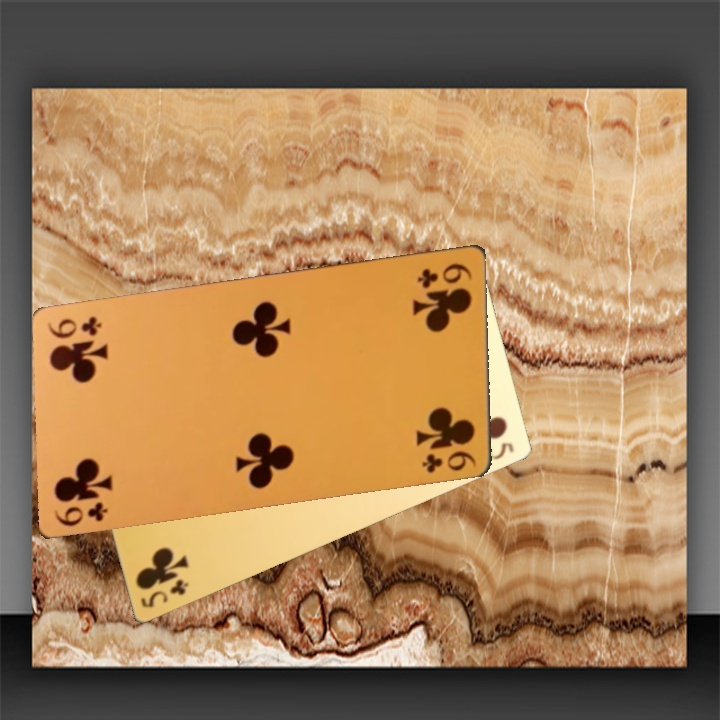5c: (140, 570, 200, 612)
6c: (42, 308, 107, 341), (415, 443, 480, 475), (48, 496, 113, 528), (410, 256, 474, 288)
